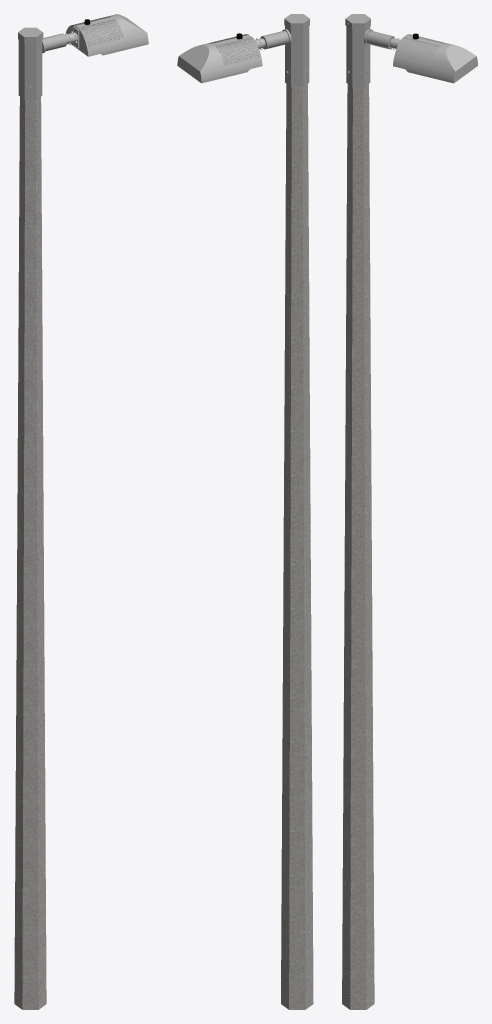
The model's file is lamppost_c8cee098.glb.
3 renders of one model, left to right at view 1: azimuth 30°, elevation 25°; view 2: azimuth 210°, elevation 25°; view 3: azimuth 330°, elevation 25°, orthographic.
Visible parts, largest first — view 1: Material2 (×3); view 2: Material2 (×3); view 3: Material2 (×3).
Boxes of the visible parts, x1,y1,x2,y2 form: Material2 (×3): [14, 14, 148, 1009]; Material2 (×3): [177, 14, 313, 1009]; Material2 (×3): [342, 14, 477, 1009].
Size of the model in its own units: 29.42 by 231 by 10.21.
Materials: 18 (3 with a texture image).
